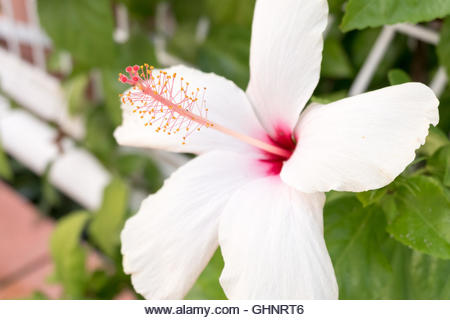Hibiscus: (98, 1, 424, 303)
